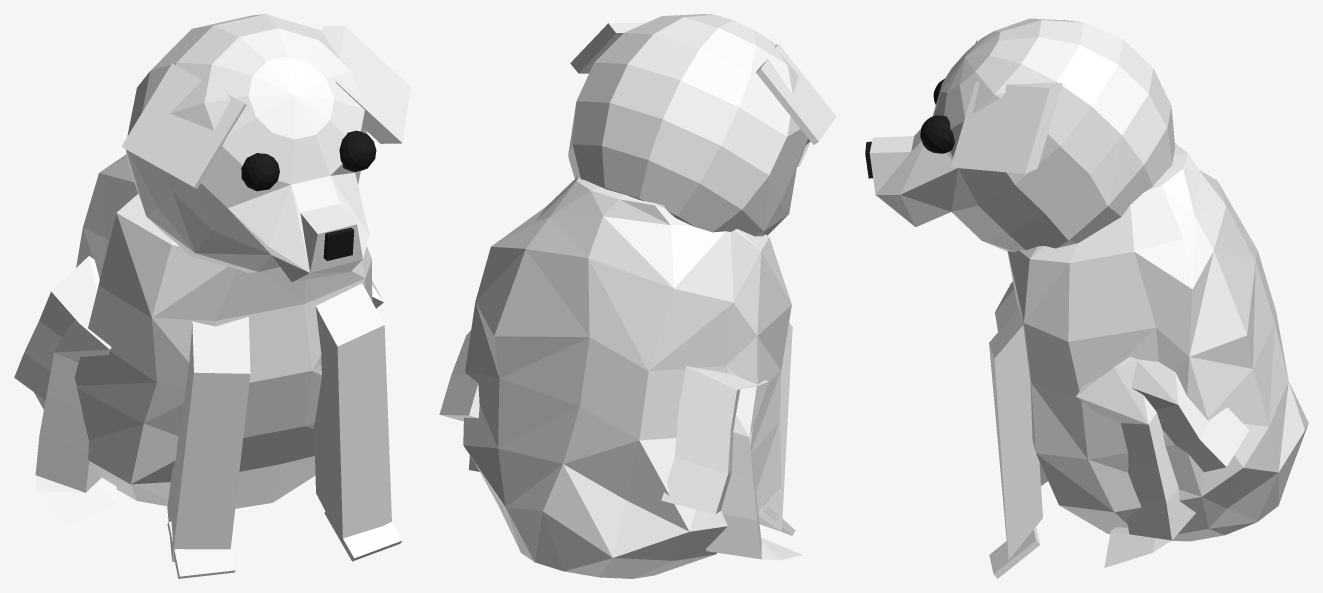
The model's file is PennyModel.fbx.
3 views of the same model, side by side, from view 1: azimuth 30°, elevation 25°; view 2: azimuth 150°, elevation 25°; view 3: azimuth 270°, elevation 25° (orthographic). The views are drawn at different scales.
Visible parts, largest first — view 1: node_id6, node_id9, node_id27, node_id30, node_id42, node_id21, node_id18, node_id33, node_id36, node_id12, node_id15, node_id24; view 2: node_id6, node_id9, node_id42, node_id21, node_id39, node_id30, node_id18; view 3: node_id6, node_id9, node_id39, node_id27, node_id18, node_id12, node_id36, node_id30.
Part boxes in pixels (bbox=[...]): node_id6: bbox=[34, 154, 372, 508]; node_id9: bbox=[125, 14, 369, 281]; node_id27: bbox=[314, 283, 391, 544]; node_id30: bbox=[167, 317, 250, 561]; node_id42: bbox=[14, 256, 117, 526]; node_id21: bbox=[121, 63, 246, 188]; node_id18: bbox=[322, 25, 410, 143]; node_id33: bbox=[167, 521, 235, 578]; node_id36: bbox=[324, 511, 402, 561]; node_id12: bbox=[339, 130, 376, 171]; node_id15: bbox=[241, 153, 279, 191]; node_id24: bbox=[323, 227, 354, 260]; node_id6: bbox=[463, 177, 791, 578]; node_id9: bbox=[568, 14, 810, 236]; node_id42: bbox=[661, 366, 802, 560]; node_id21: bbox=[756, 44, 836, 144]; node_id39: bbox=[439, 330, 479, 471]; node_id30: bbox=[758, 323, 792, 531]; node_id18: bbox=[570, 22, 646, 73]; node_id6: bbox=[1007, 143, 1308, 541]; node_id9: bbox=[869, 18, 1175, 252]; node_id39: bbox=[1076, 356, 1248, 567]; node_id27: bbox=[989, 310, 1042, 559]; node_id18: bbox=[950, 81, 1062, 173]; node_id12: bbox=[920, 115, 954, 153]; node_id36: bbox=[989, 527, 1040, 578]; node_id30: bbox=[995, 281, 1047, 485].
Size of the model in its own units: 0.3109 by 0.4732 by 0.3808.
13 materials, 13 textured.
